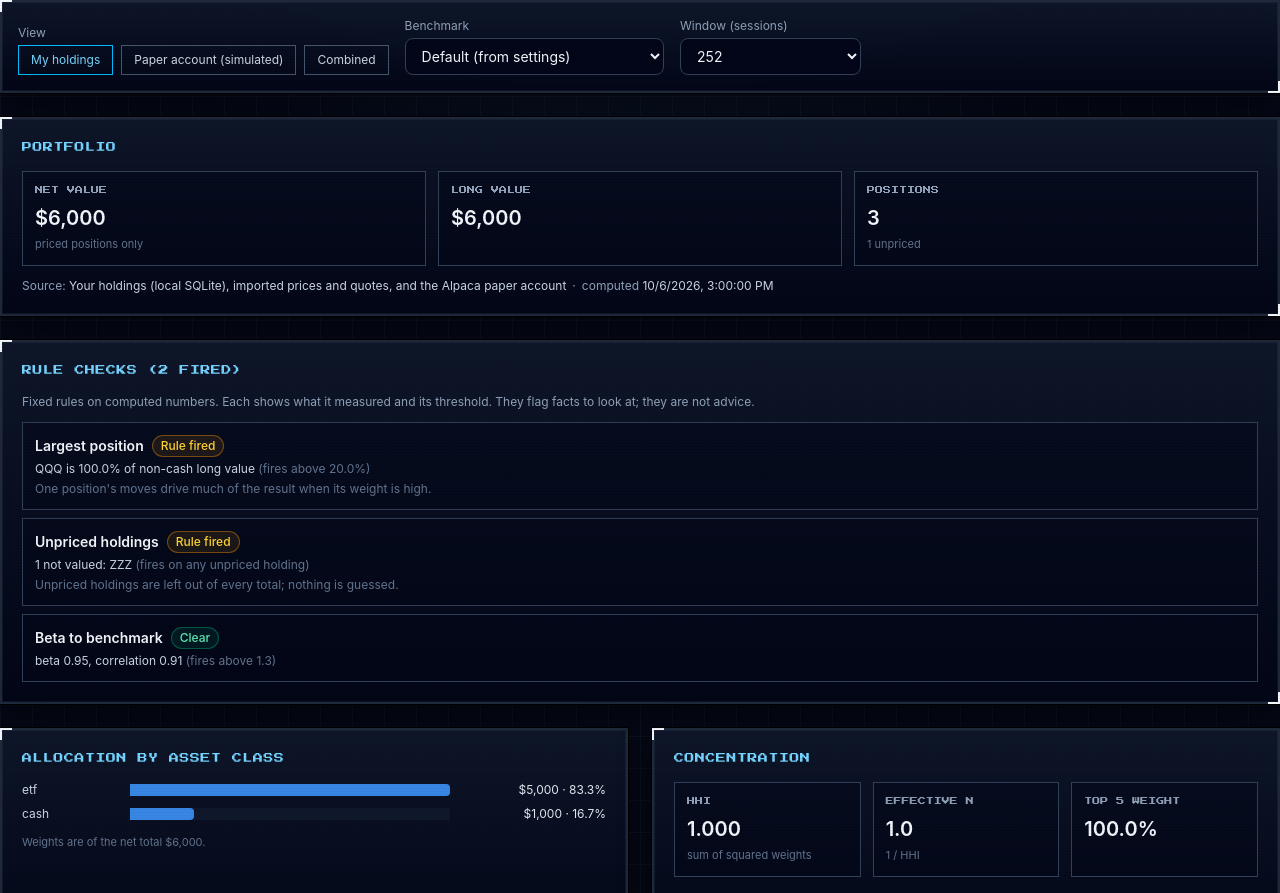
Test: PortfolioPage › switches to the paper book and says when it has no data
Check: the heading "Rule checks (2 fired)" is shown, box [22,362,242,378]
Click the button "Paper account (simulated)": (209, 60) [121,45,296,75]
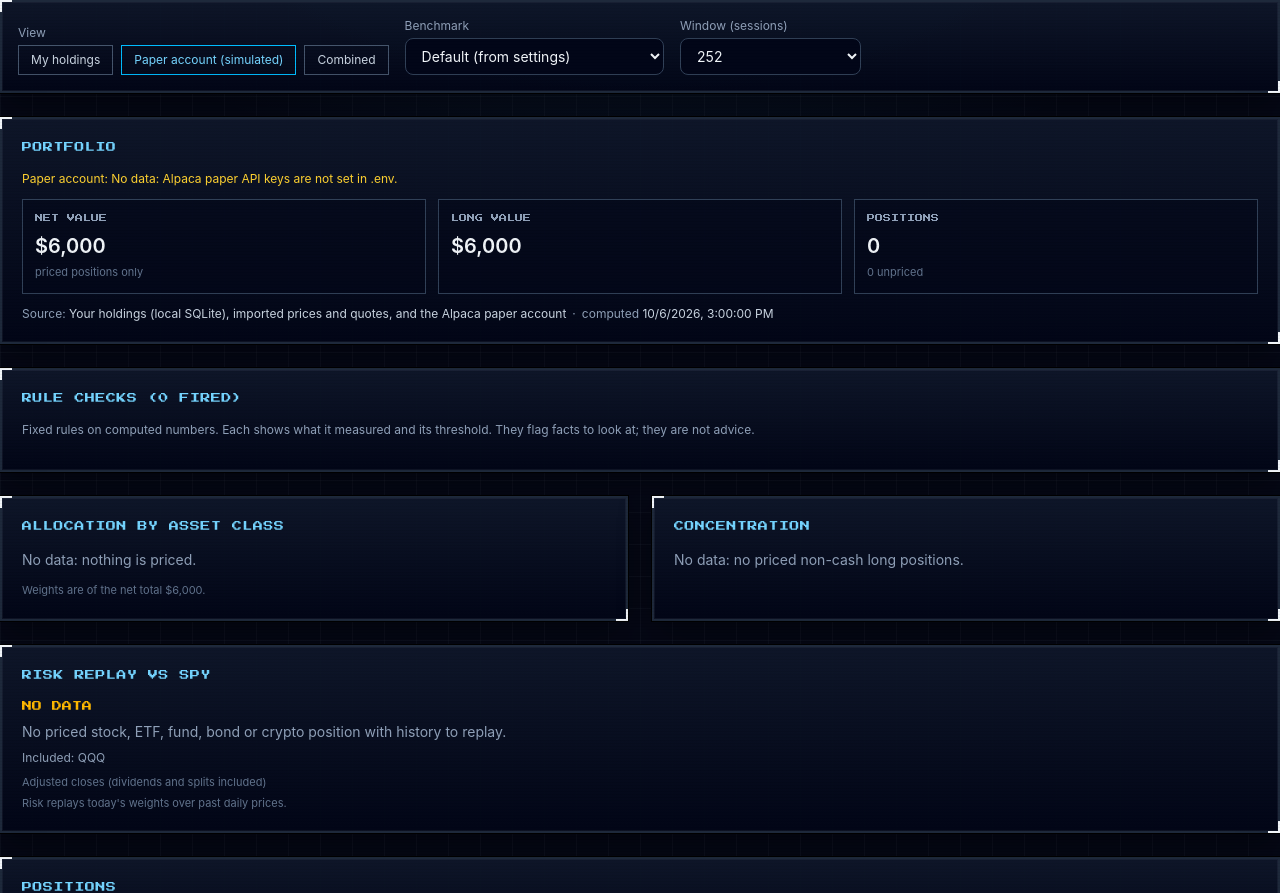
Check: the text "Paper account: No data: Alpaca paper API keys are not set" is shown, box [22,171,398,186]
Check: the text "No priced stock, ETF" is shown, box [22,723,506,740]
